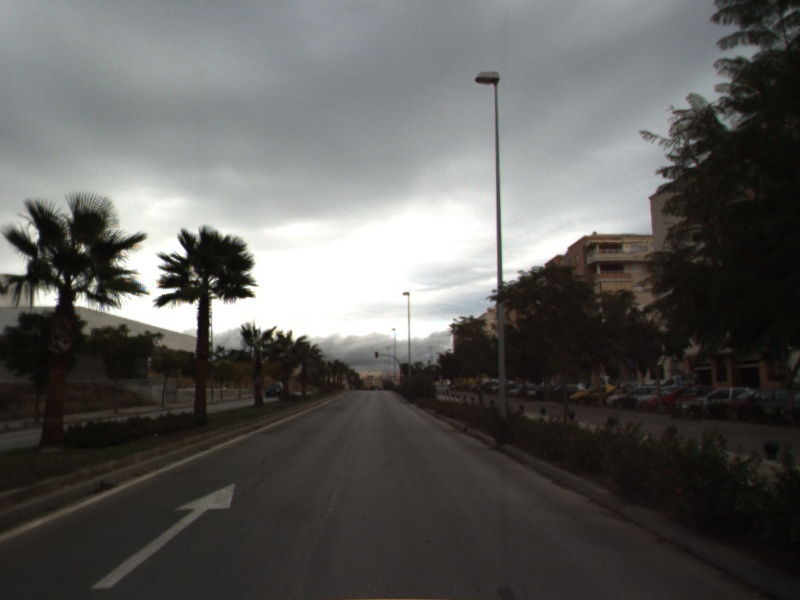STRAIGHT: (88, 480, 238, 591)
